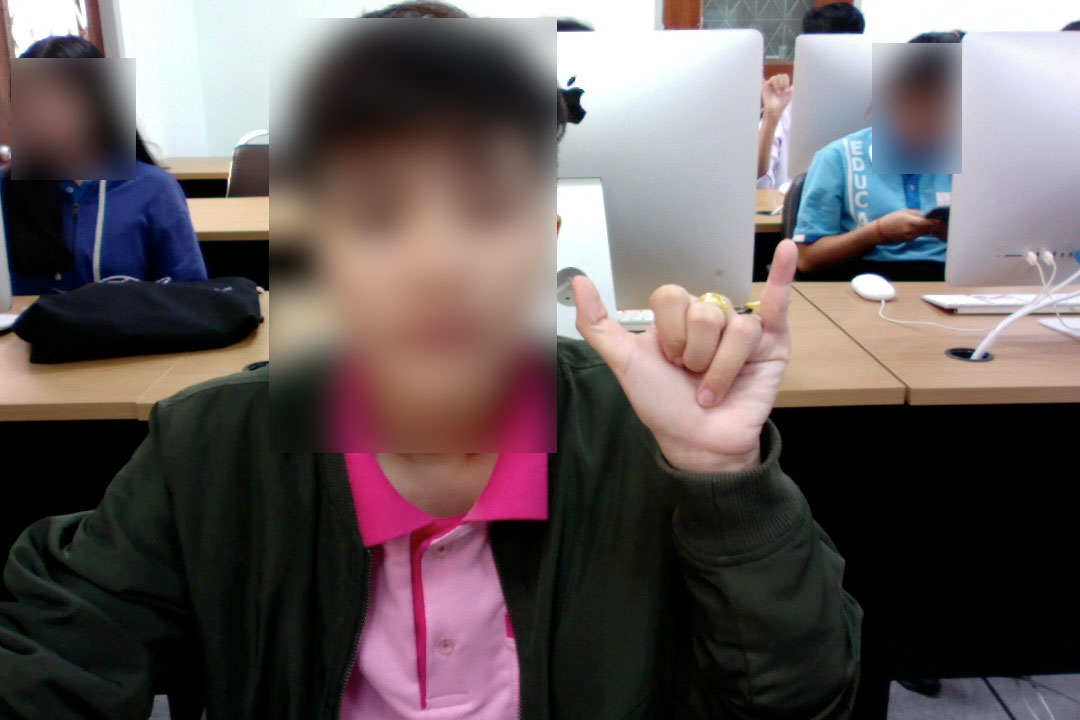yor: (569, 226, 810, 485)
